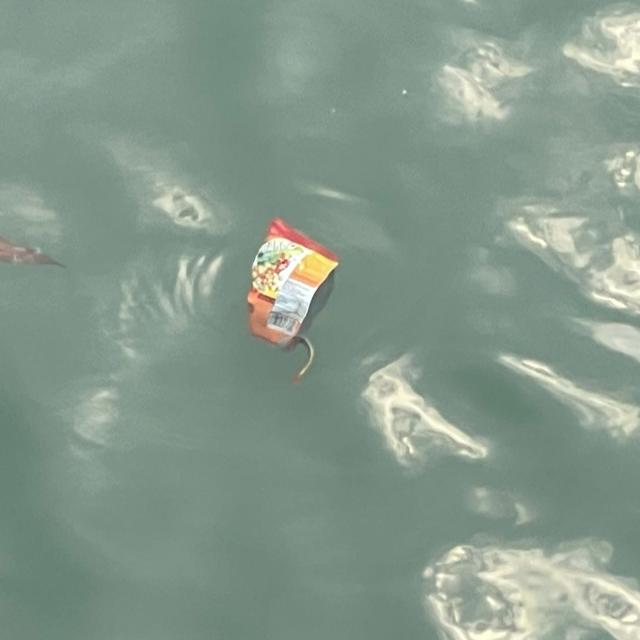Bungkus Makanan: (244, 208, 343, 359)
